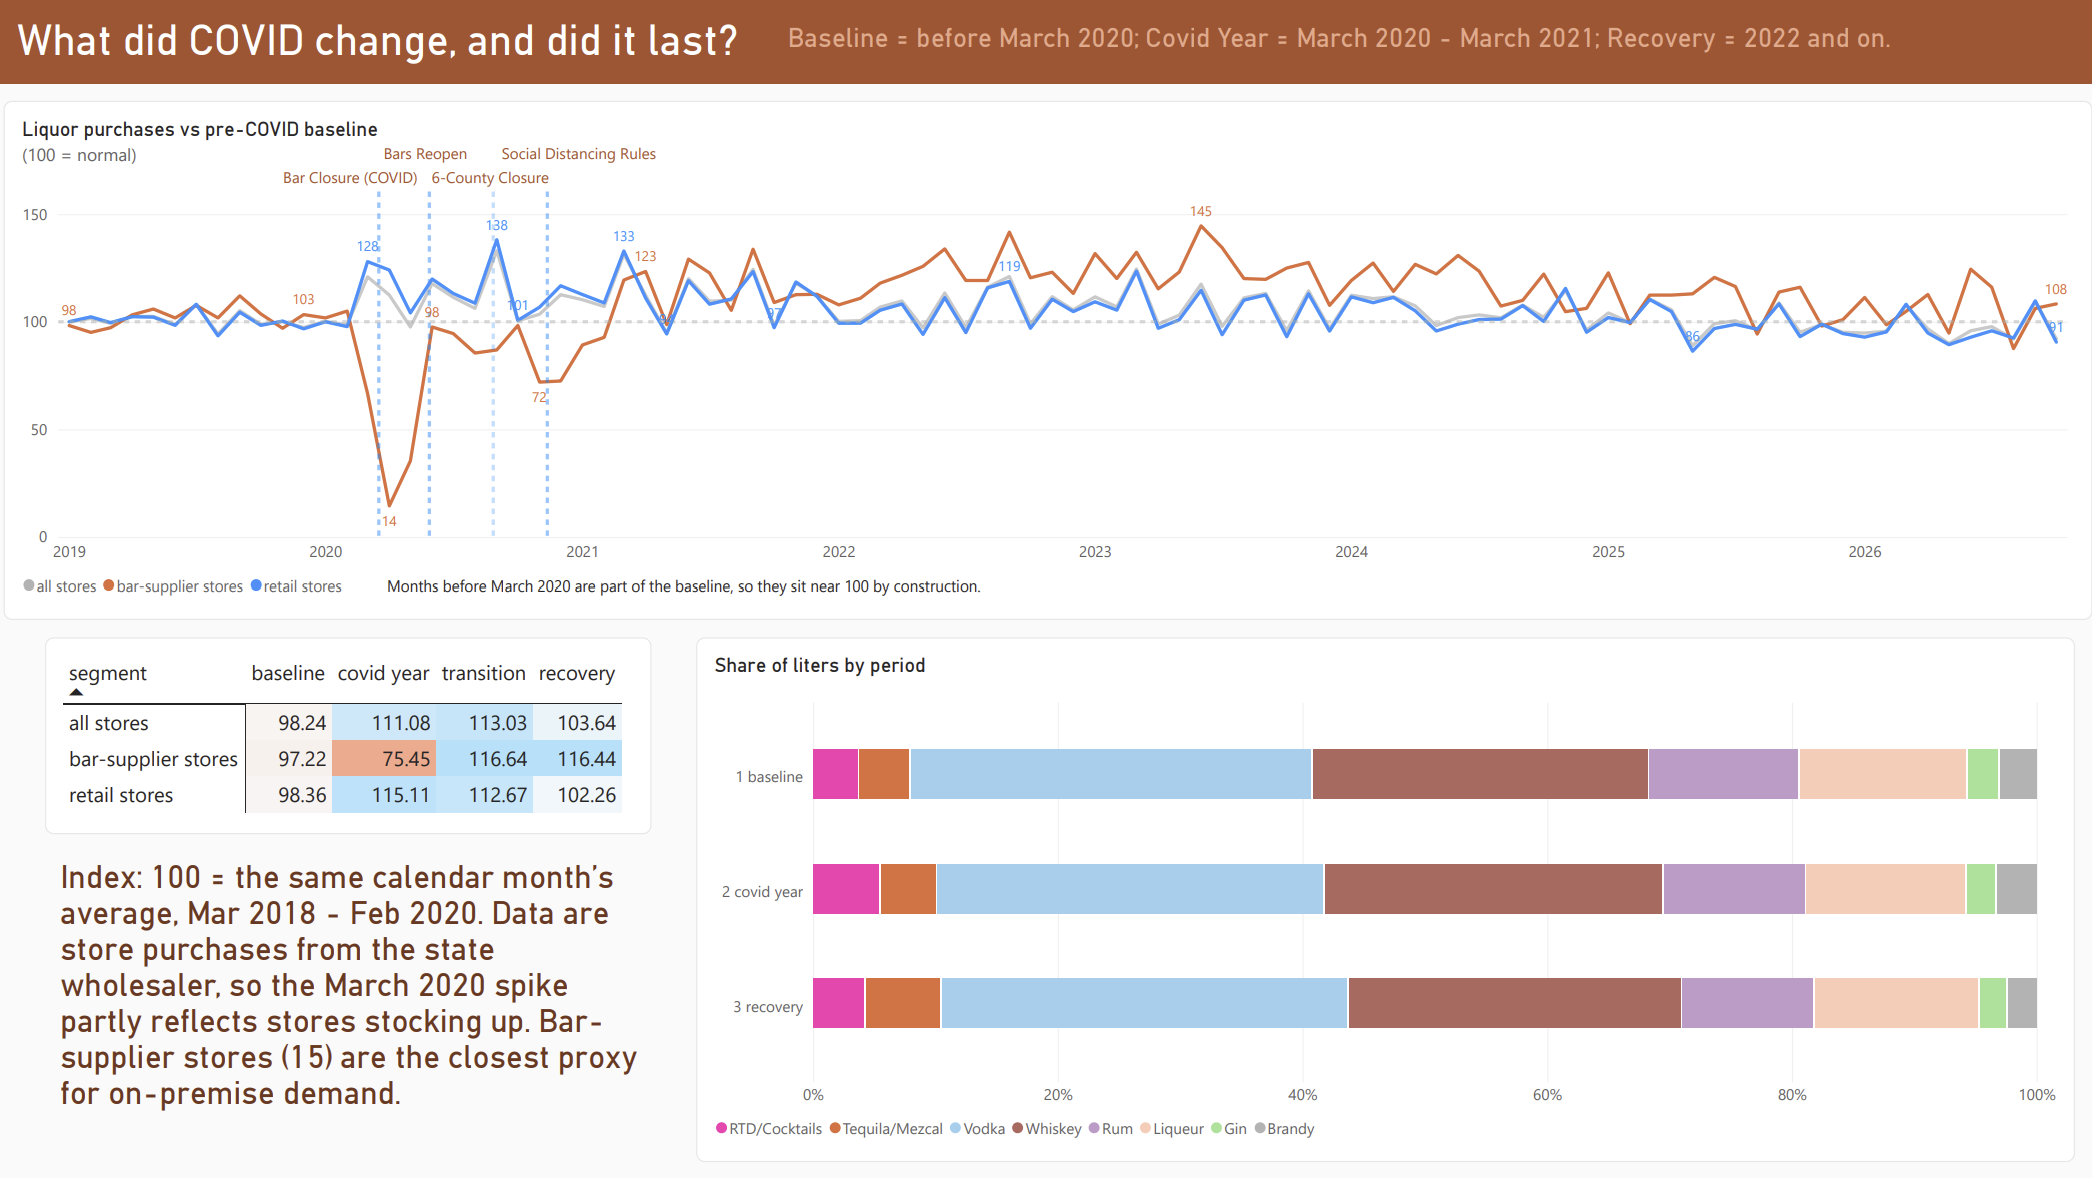

What the dashboard file says about the page in this screenshot:
{"tool":"powerbi","page":{"name":"COVID","canvas":[1920,1080],"ordinal":3},"visuals":[{"type":"lineChart","title":"Liquor purchases vs pre-COVID baseline ","fields":{"Category":["covid_monthly.sale_month.Variation.Date Hierarchy.Year","covid_monthly.sale_month.Variation.Date Hierarchy.Month","covid_monthly.sale_month.Variation.Date Hierarchy.Day"],"Series":["covid_monthly.segment"],"Y":["_Measures.Avg Index"]},"box":[4,92,1912,474],"z":0},{"type":"textbox","box":[260,152,182,34],"z":1000},{"type":"textbox","box":[352,130,90,40],"z":2000},{"type":"textbox","box":[396,152,224,96],"z":3000},{"type":"textbox","box":[460,130,160,22],"z":4000},{"type":"pivotTable","fields":{"Columns":["covid_monthly.period"],"Rows":["covid_monthly.segment"],"Values":["_Measures.Avg Index"]},"box":[42,582,555,180],"z":5000},{"type":"hundredPercentStackedBarChart","title":"Share of liters by period","fields":{"Category":["covid_mix.period"],"Series":["Families.family"],"Y":["Sum(covid_mix.share_of_liters)"]},"box":[638,582,1262,480],"z":6000},{"type":"textbox","box":[56,784,542,280],"z":6001},{"type":"textbox","box":[355,525,1395,43.3],"z":6002},{"type":"shape","box":[0,0,1920,76],"z":6003},{"type":"textbox","box":[16,14,724,62],"z":6004},{"type":"textbox","box":[722,21,1164,55],"z":6005}]}

Visuals, with their boxes in screenshot pixels (x1, y1, x2, y2), scaled from the page's 1920x1080 canvas onto the 2092x1178 screenshot:
"Liquor purchases vs pre-COVID baseline " lineChart: select_region(4, 100, 2088, 617)
textbox: select_region(283, 166, 482, 203)
textbox: select_region(384, 142, 482, 185)
textbox: select_region(431, 166, 676, 271)
textbox: select_region(501, 142, 676, 166)
pivotTable - covid_monthly.period x covid_monthly.segment: select_region(46, 635, 650, 831)
"Share of liters by period" hundredPercentStackedBarChart: select_region(695, 635, 2070, 1158)
textbox: select_region(61, 855, 652, 1161)
textbox: select_region(387, 573, 1907, 620)
shape: select_region(0, 0, 2091, 83)
textbox: select_region(17, 15, 806, 83)
textbox: select_region(787, 23, 2055, 83)
